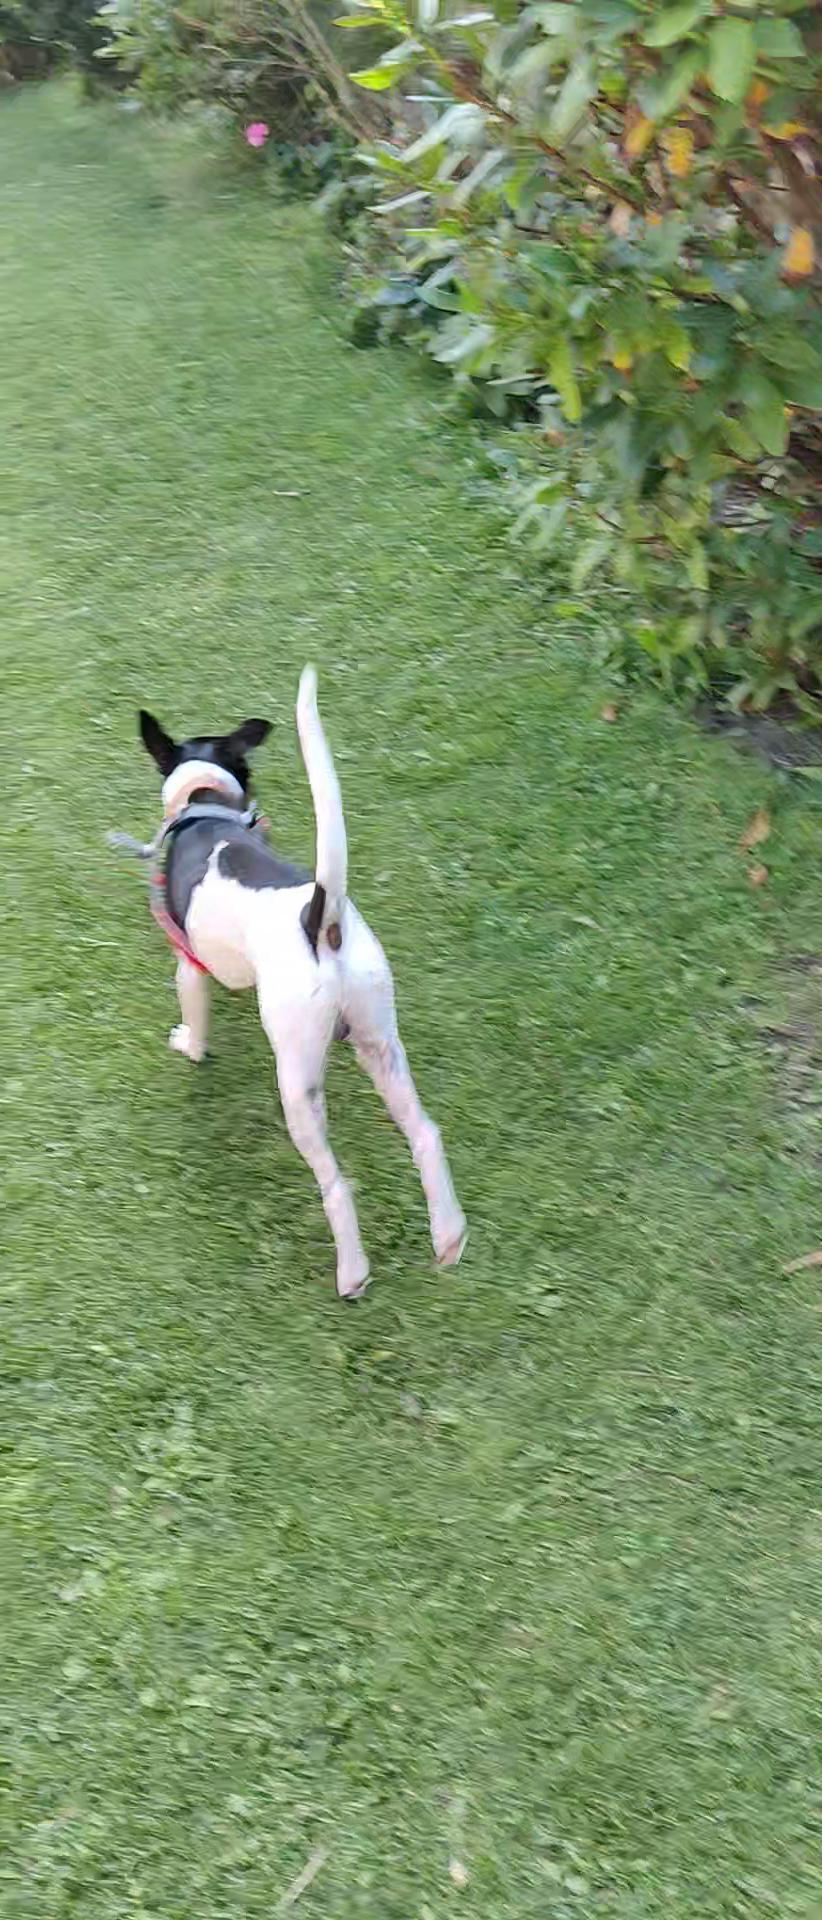Dog: (111, 650, 477, 1315)
